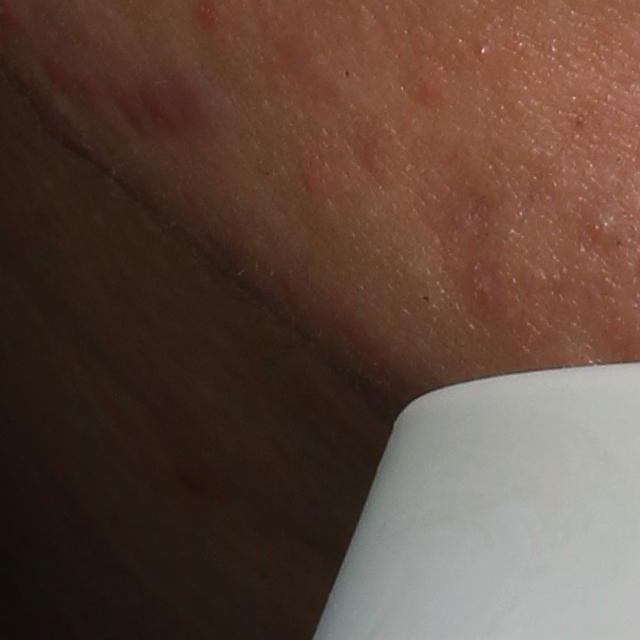papule: (140, 78, 182, 133)
